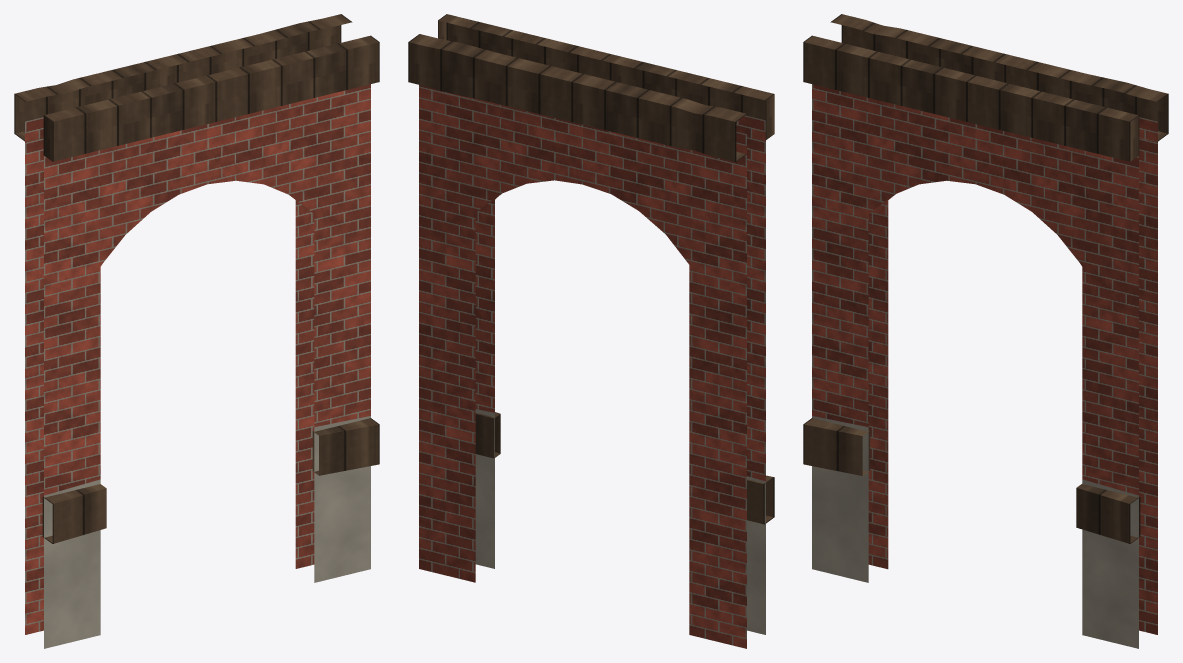
The model's file is Wall_RedBrick_Door_Round.gltf.
3 renders of one model, left to right at view 1: azimuth 30°, elevation 25°; view 2: azimuth 150°, elevation 25°; view 3: azimuth 330°, elevation 25°, orthographic.
Visible parts, largest first — view 1: Wall_RedBrick_Door_Round; view 2: Wall_RedBrick_Door_Round; view 3: Wall_RedBrick_Door_Round.
Boxes of the visible parts, <box> form: Wall_RedBrick_Door_Round: <box>14,14,379,648</box>; Wall_RedBrick_Door_Round: <box>408,14,774,648</box>; Wall_RedBrick_Door_Round: <box>803,14,1168,648</box>.
Size of the model in its own units: 2 by 3.12 by 0.406.
3 materials, 3 textured.
